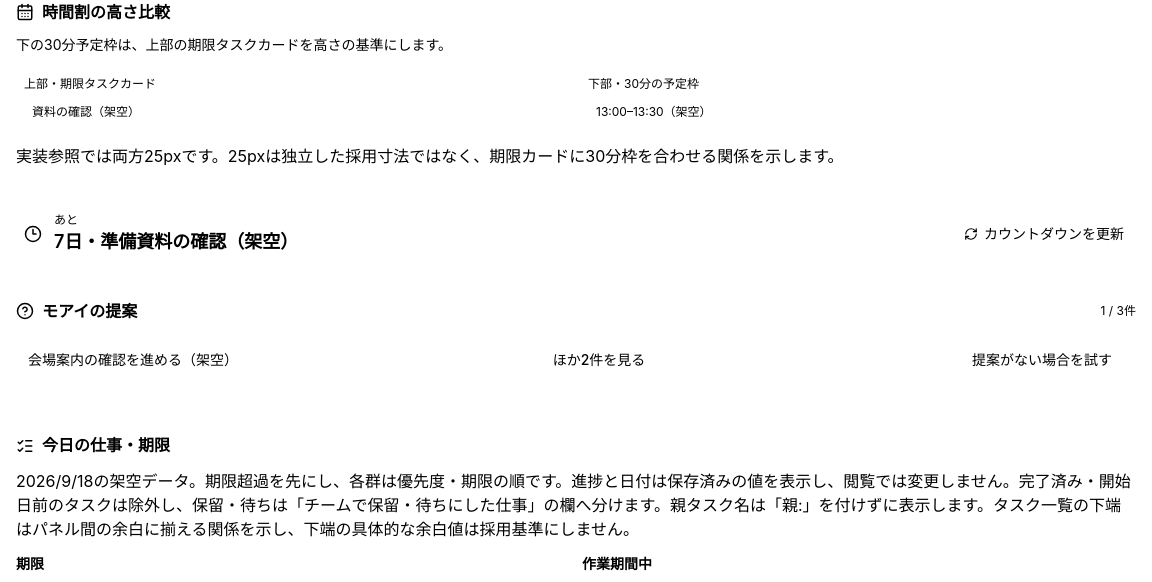
Test: additional isolated guide specimens › shows Neo home layout directions in a guide-only specimen
(page scrolled)
Click the button "ほか2件を見る" at point(599, 360), box top-left (541, 344), bottom-right (657, 376)
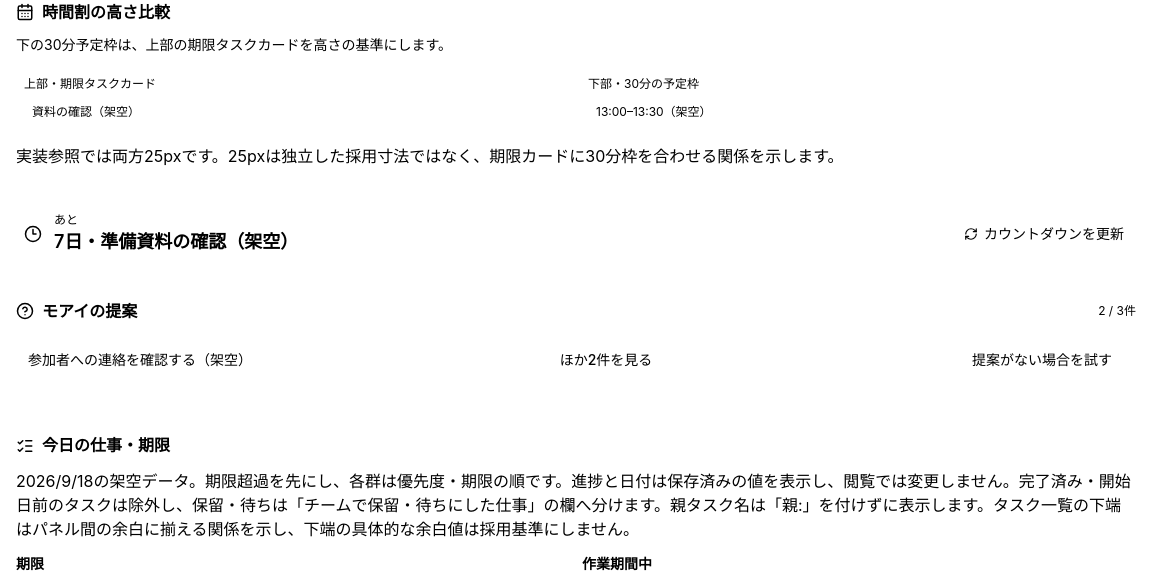
Expected: the text "2 / 3件" is shown, top-left (1098, 303), bottom-right (1136, 319)
Click the button "提案がない場合を試す" at point(1042, 360), box top-left (960, 344), bottom-right (1124, 376)
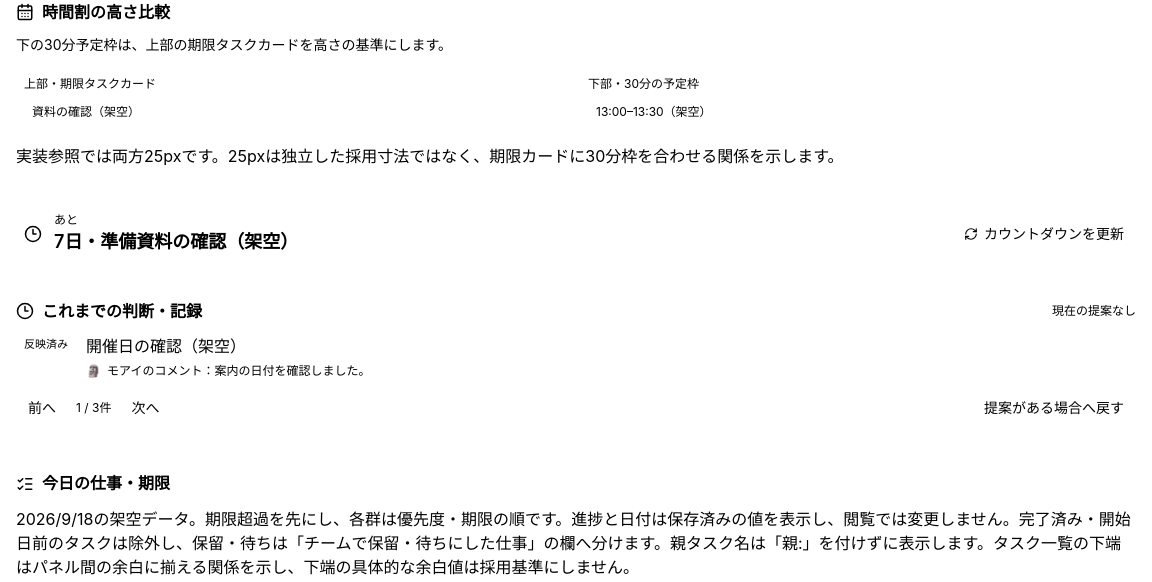
Expected: the text "1 / 3件" is shown, top-left (76, 400), bottom-right (111, 416)
Expected: the text "モアイのコメント：案内の日付を確認しました。" is shown, top-left (107, 362), bottom-right (370, 380)
Click the button with aria-label "次の記録を表示" at point(145, 408), box top-left (119, 392), bottom-right (171, 424)
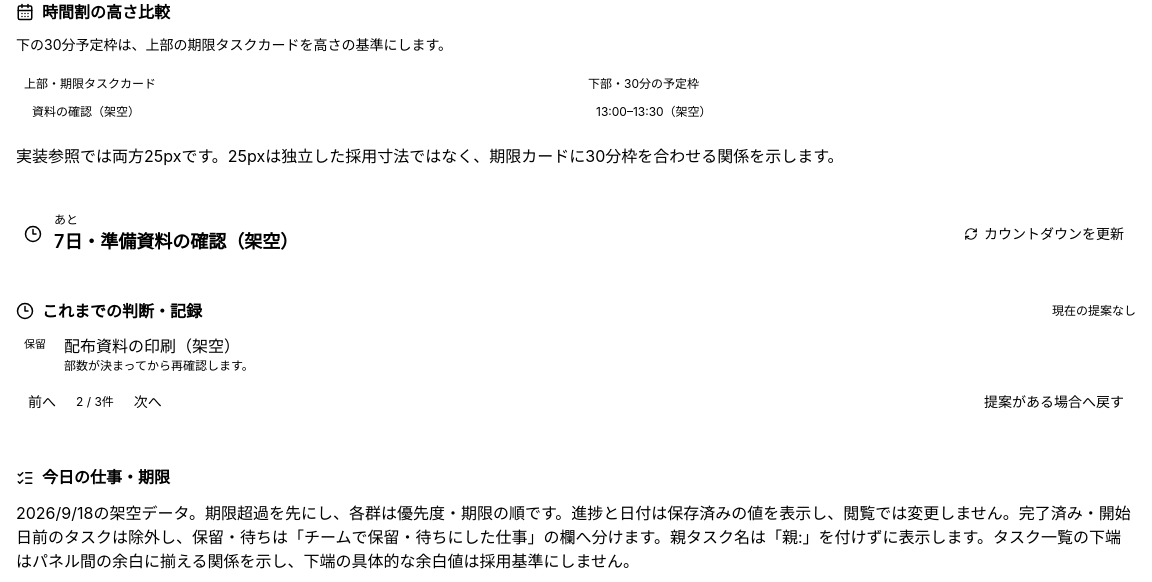
Expected: the text "モアイのコメント" is not shown
Expected: the text "2 / 3件" is shown, top-left (76, 394), bottom-right (114, 410)
Click the button "提案がある場合へ戻す" at point(1054, 402), box top-left (972, 386), bottom-right (1136, 418)
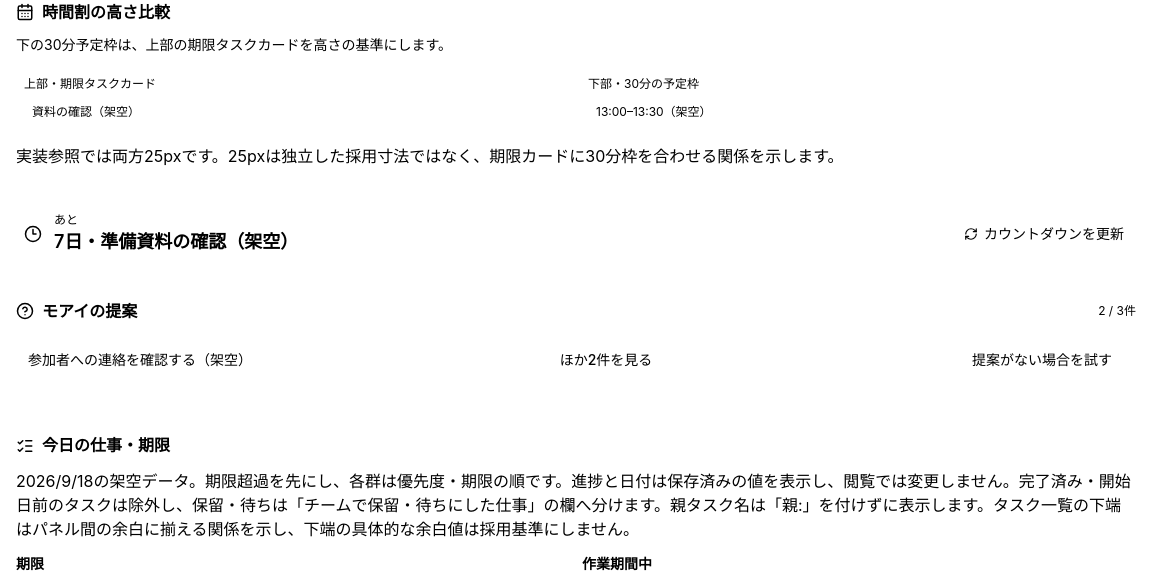
Click the button "カウントダウンを更新" at point(1044, 234), box top-left (952, 218), bottom-right (1136, 250)
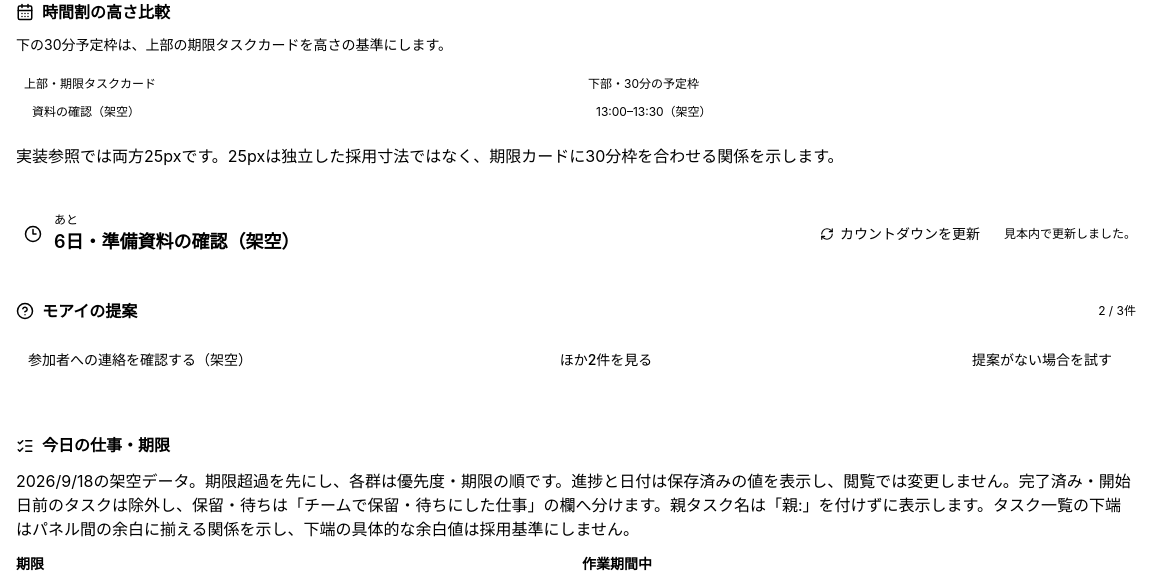
Expected: the message shows "見本内で更新しました", top-left (1004, 226), bottom-right (1136, 241)
